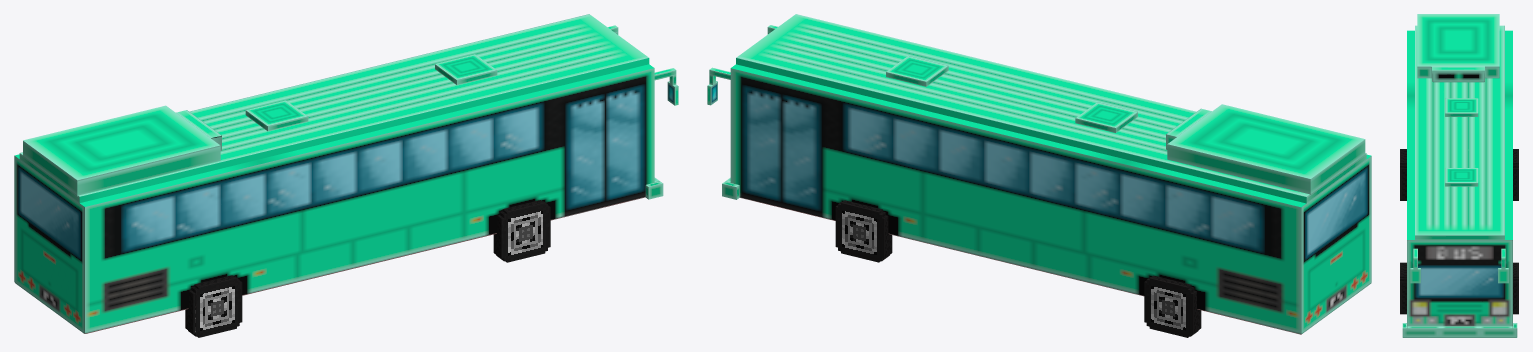
The model's file is BGN_BUS.fbx.
The picture shows the model from 3 angles, left to right: view 1: azimuth 30°, elevation 25°; view 2: azimuth 150°, elevation 25°; view 3: azimuth 270°, elevation 25°; orthographic projection. The views are drawn at different scales.
Visible parts, largest first — view 1: BGN_BUS, TIRE__7___3_, TIRE__7___4_; view 2: BGN_BUS, TIRE__7___1_, TIRE__7___2_; view 3: BGN_BUS, TIRE__7___3_, TIRE__7___4_, TIRE__7___1_, TIRE__7___2_.
Boxes of the visible parts, x1,y1,x2,y2 form: BGN_BUS: [14, 14, 678, 333]; TIRE__7___3_: [493, 200, 550, 262]; TIRE__7___4_: [185, 275, 242, 337]; BGN_BUS: [707, 14, 1371, 334]; TIRE__7___1_: [835, 200, 892, 262]; TIRE__7___2_: [1144, 275, 1201, 337]; BGN_BUS: [1402, 14, 1517, 337]; TIRE__7___3_: [1400, 262, 1406, 314]; TIRE__7___4_: [1400, 149, 1406, 200]; TIRE__7___1_: [1513, 262, 1518, 314]; TIRE__7___2_: [1513, 149, 1518, 200].
Bounding box in the file's own units: 1063 × 300 × 243.
Materials: 2 (2 with a texture image).
